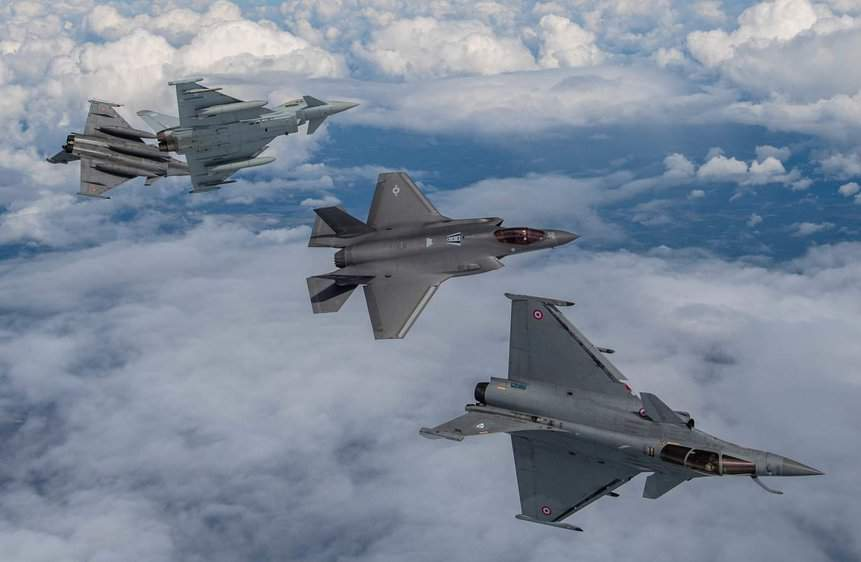F35: (307, 172, 572, 340)
Rafale: (413, 290, 817, 533), (45, 97, 193, 198)
